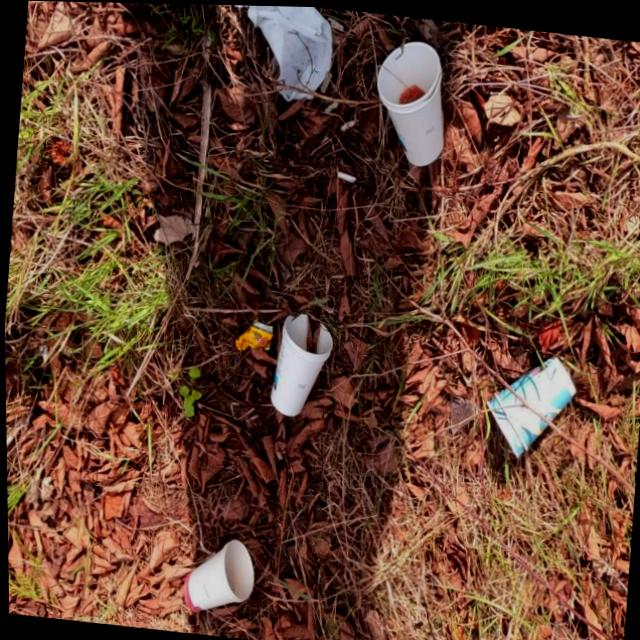Cup: (477, 342, 579, 463), (367, 32, 452, 166), (265, 306, 335, 418), (177, 529, 259, 619)
Paper: (224, 4, 336, 104)
Plastic: (231, 312, 272, 352)
